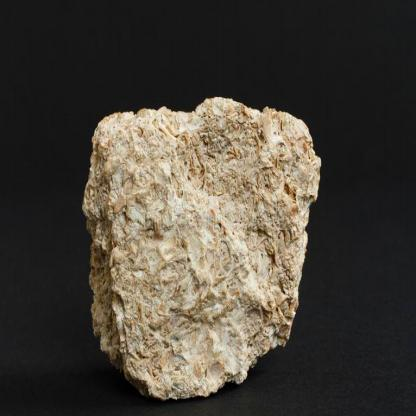Sedimentary_Limestone: (84, 96, 329, 407)
